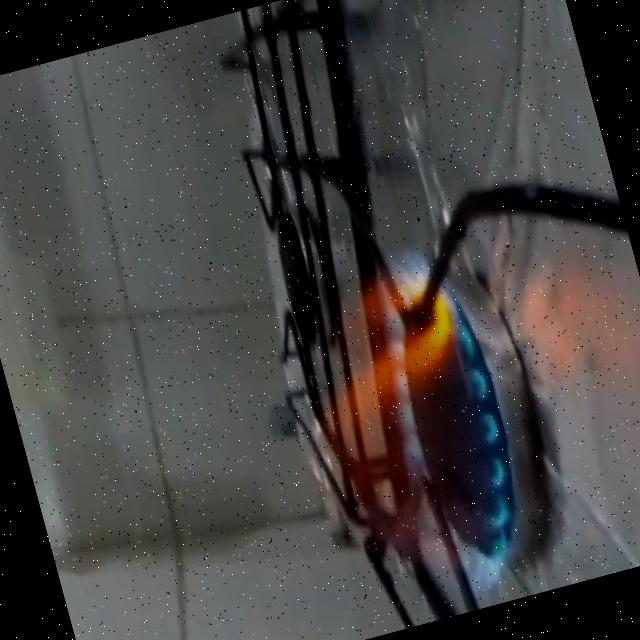fire: (247, 212, 553, 635)
